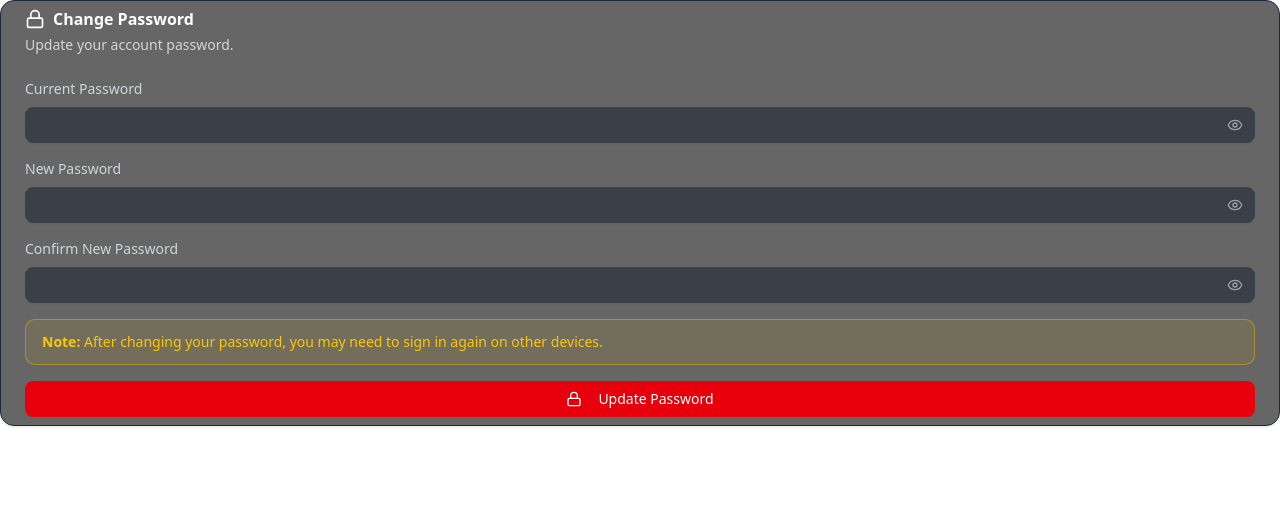
ChangePasswordForm › should show error when new passwords don't match
Type "oldpass123" into the password field labelled "Current Password". click: (640,125)
box: top-left (25, 107), bottom-right (1255, 143)
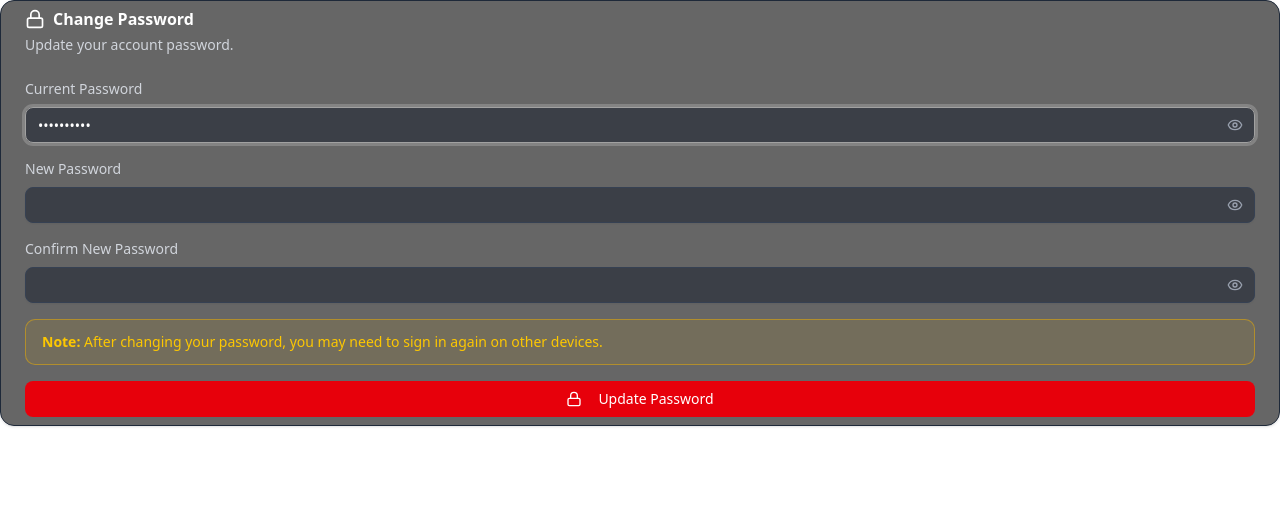
Type "newpass123" into the password field labelled "New Password". click: (640,205)
box: top-left (25, 187), bottom-right (1255, 223)
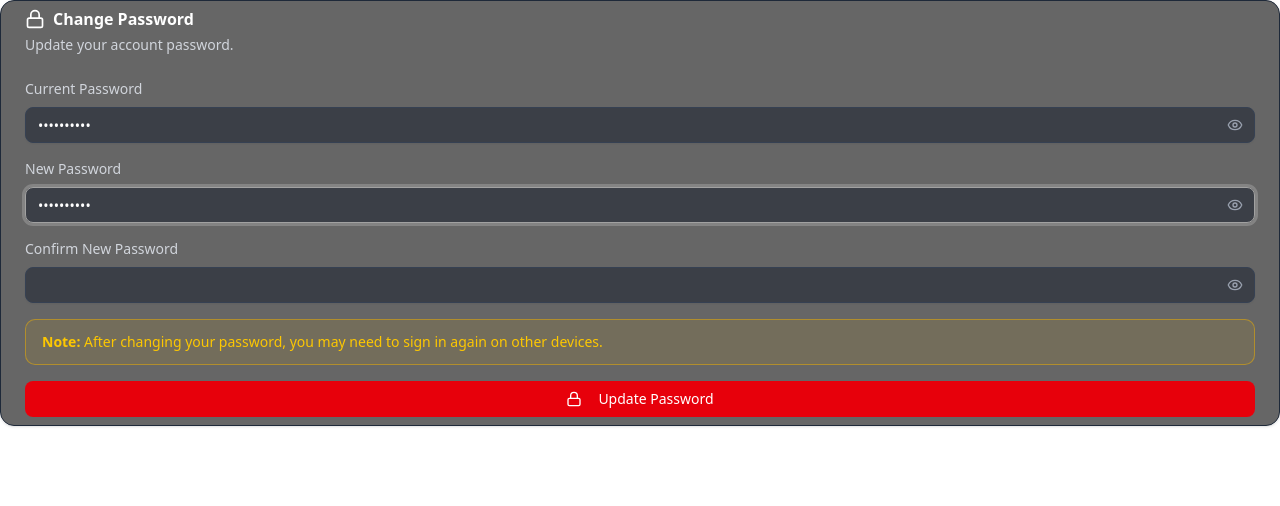
Type "differentpass" into the password field labelled "Confirm New Password". click: (640,285)
box: top-left (25, 267), bottom-right (1255, 303)
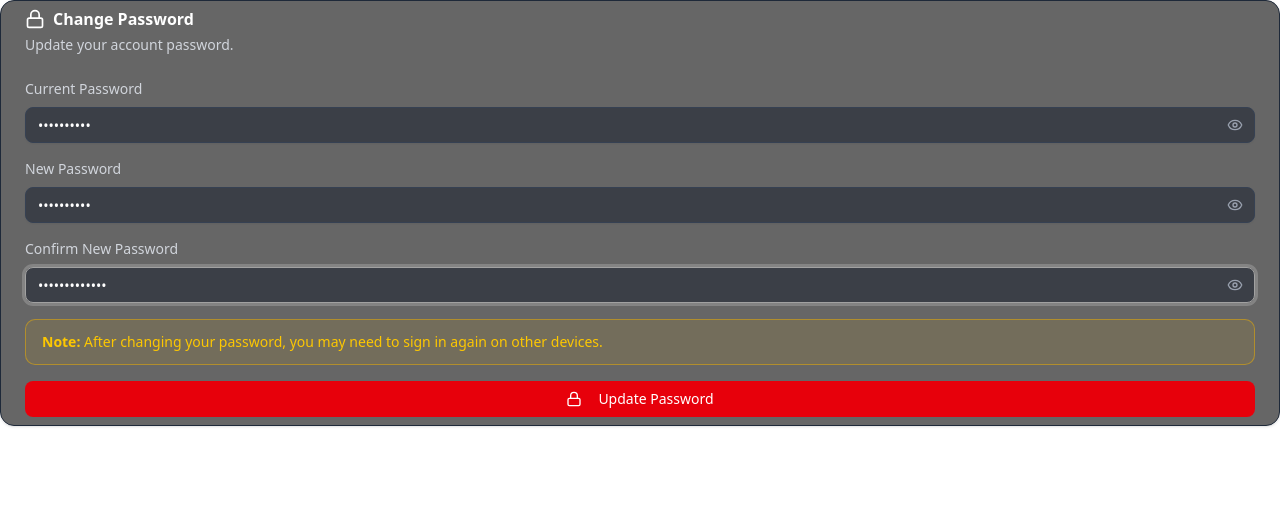
Click the button "Update Password". click: (640,399)
box: top-left (25, 381), bottom-right (1255, 417)
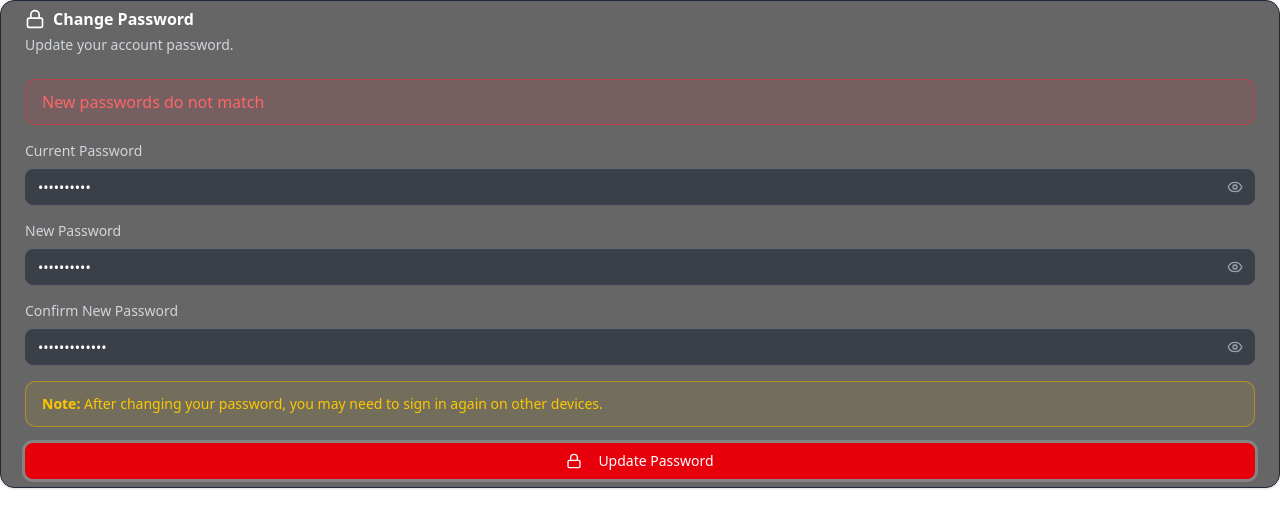
expect the text "New passwords do not match" is shown: met, box top-left (25, 79), bottom-right (1255, 125)
